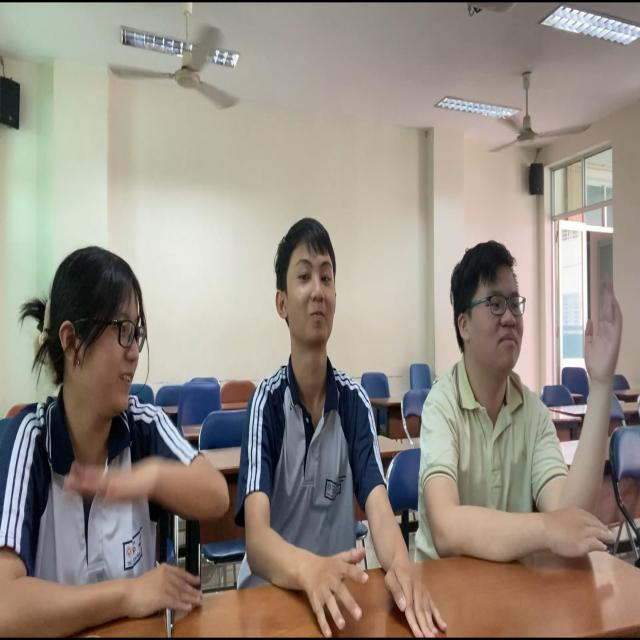raise_hand: (407, 221, 627, 572)
